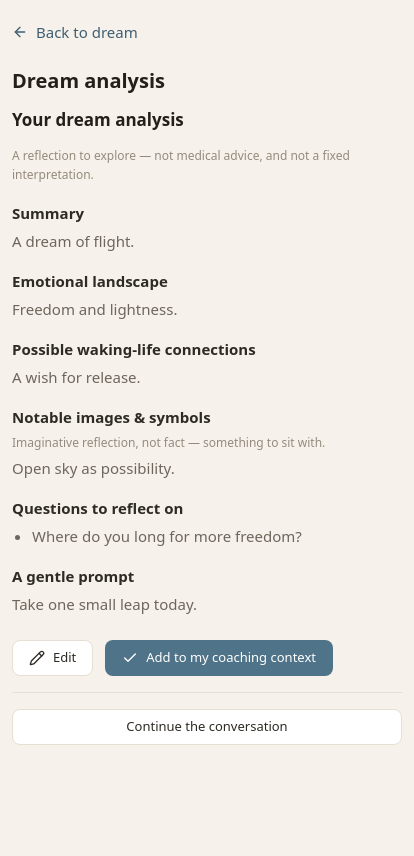
Scenario: Dreams analysis UI › approves an analysis into the coaching context and shows the badge
The width and height of the screenshot is (414, 856).
Expected: the text "A dream of flight." is shown, [12,231,134,251]
Click the button "Add to my coaching context".
click(219, 658)  # box [105,640,333,676]
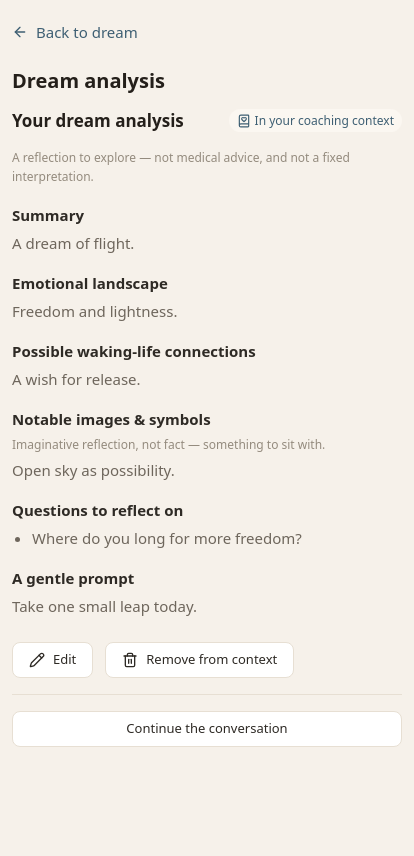
Expected: the text "In your coaching context" is shown, [229,109,402,132]
